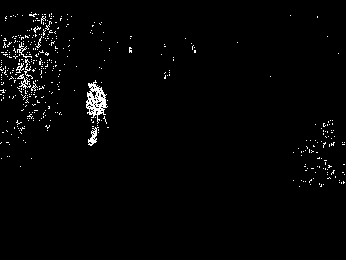person: (80, 76, 110, 150)
